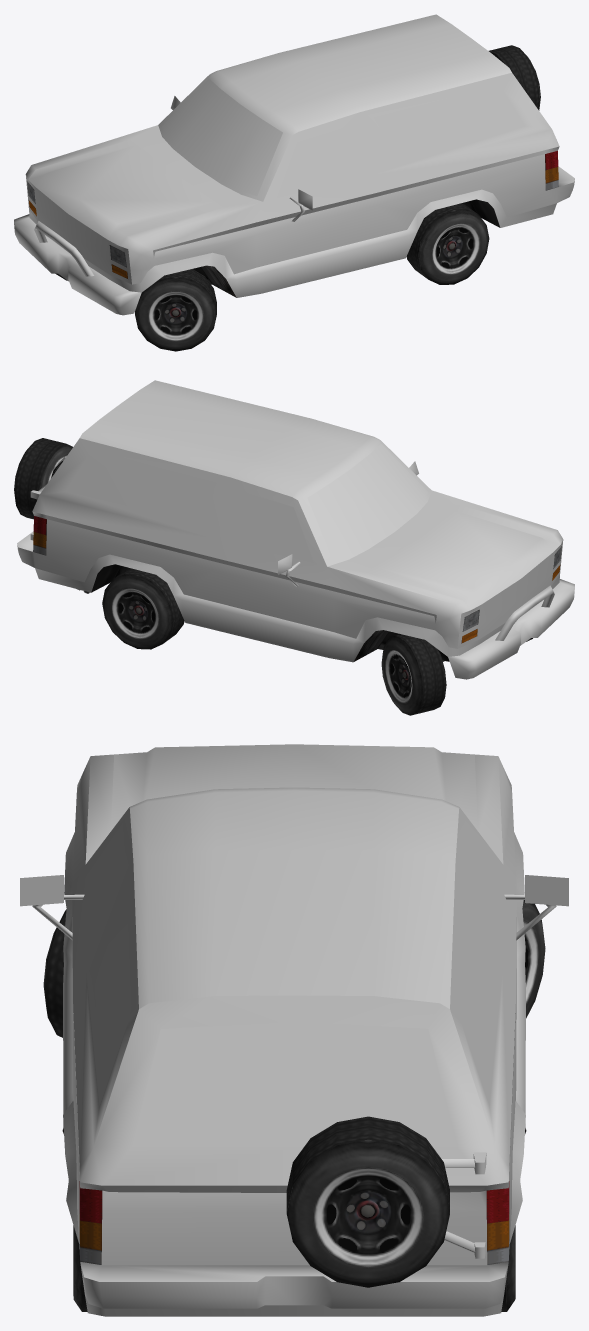
File: Palomino80.fbx
3 renders of one model, top to bottom at view 1: azimuth 30°, elevation 25°; view 2: azimuth 150°, elevation 25°; view 3: azimuth 270°, elevation 25°, orthographic. The views are drawn at different scales.
Parts seen in each view (by area): view 1: body, Glass, Hood, Wheel_FL, Wheel_RL, Bumper_Front, Bottom, Bumper_rear; view 2: body, Glass, Hood, Wheel_RR, Bumper_Front, Wheel_FR, Bottom; view 3: body, Glass, Hood, Bumper_rear, Wheel_FL, Wheel_FR, Brakelights.
Boxes of the visible parts, x1,y1,x2,y2 form: body: (25, 14, 559, 297); Glass: (162, 79, 524, 198); Hood: (28, 140, 221, 245); Wheel_FL: (135, 269, 216, 351); Wheel_RL: (406, 203, 489, 284); Bumper_Front: (14, 214, 141, 315); Bottom: (193, 199, 500, 297); Bumper_rear: (557, 166, 574, 202); body: (14, 380, 563, 662); Glass: (67, 444, 427, 563); Hood: (368, 505, 560, 609); Wheel_RR: (102, 568, 184, 649); Bumper_Front: (448, 579, 574, 679); Wheel_FR: (381, 634, 446, 715); Bottom: (77, 564, 449, 661); body: (20, 754, 568, 1316); Glass: (85, 822, 503, 1147); Hood: (111, 744, 477, 830); Bumper_rear: (80, 1262, 508, 1308); Wheel_FL: (43, 909, 66, 1037); Wheel_FR: (522, 900, 545, 1018); Brakelights: (79, 1181, 509, 1223).
Size of the model in its own units: 4933 by 1829 by 2409.
